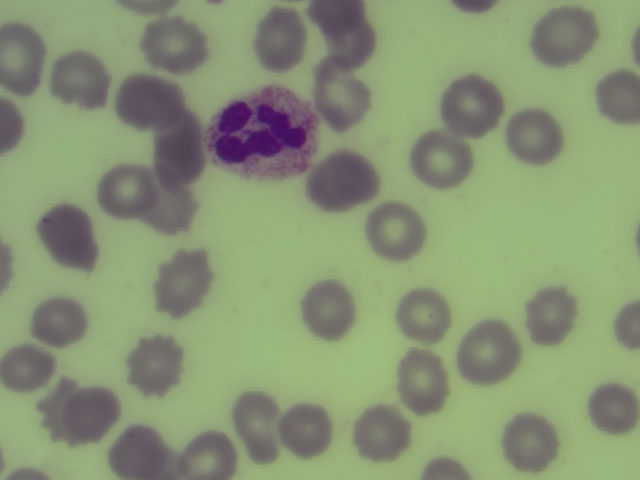RBC: (234, 385, 289, 469), (442, 68, 502, 136), (56, 48, 110, 121), (462, 313, 518, 382), (44, 211, 107, 272), (408, 130, 472, 189), (142, 16, 207, 74), (157, 253, 214, 319), (501, 411, 561, 472), (528, 12, 597, 64), (2, 22, 49, 94), (398, 351, 452, 413), (507, 113, 572, 164), (305, 278, 359, 338), (121, 78, 179, 133), (318, 61, 367, 126), (313, 156, 374, 207), (111, 424, 167, 479), (527, 287, 577, 348), (134, 335, 184, 396), (372, 203, 426, 259), (278, 398, 331, 455), (261, 9, 309, 71), (394, 291, 450, 344), (354, 405, 410, 458), (181, 426, 233, 480), (106, 167, 159, 219), (157, 141, 208, 189), (70, 389, 115, 440), (40, 299, 87, 346), (331, 21, 375, 70), (2, 348, 58, 386), (594, 389, 636, 438), (158, 185, 198, 235), (603, 77, 636, 128), (44, 383, 74, 439), (312, 1, 369, 28), (1, 98, 28, 151), (609, 300, 640, 345), (428, 459, 472, 480), (170, 111, 203, 138), (452, 1, 496, 14)
WBC: (215, 84, 319, 180)
